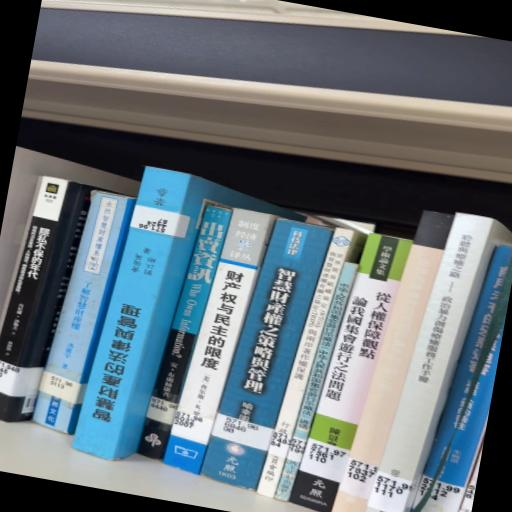reverse: (73, 168, 305, 460)
